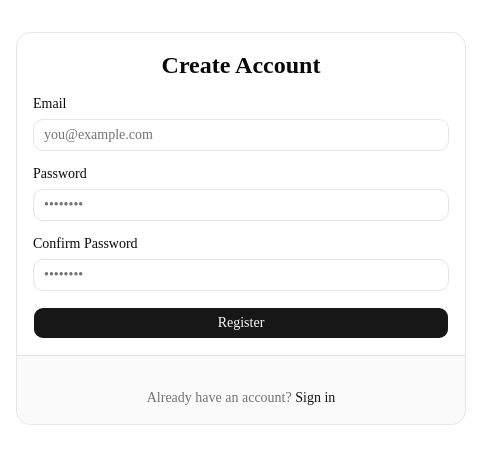
Test case: RegisterPage › shows error when email is empty
In the password field labelled "Password": (241, 204) [33,188,449,220], type "password123"
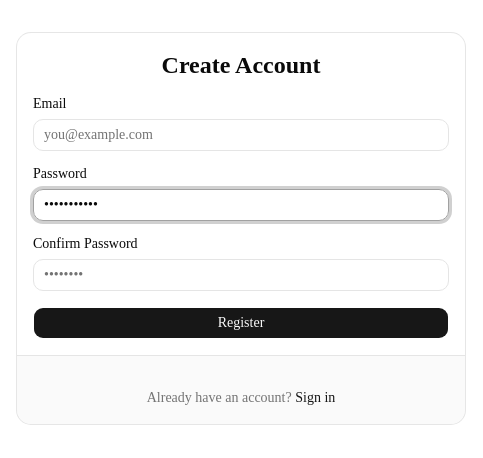
In the password field labelled "Confirm Password": (241, 274) [33,258,449,290], type "password123"
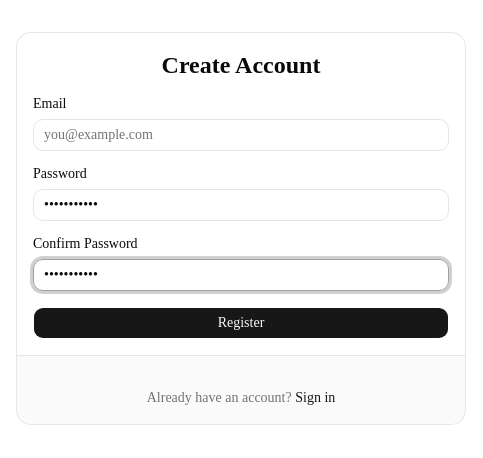
Click the button "Register": (241, 322) [33,306,449,338]
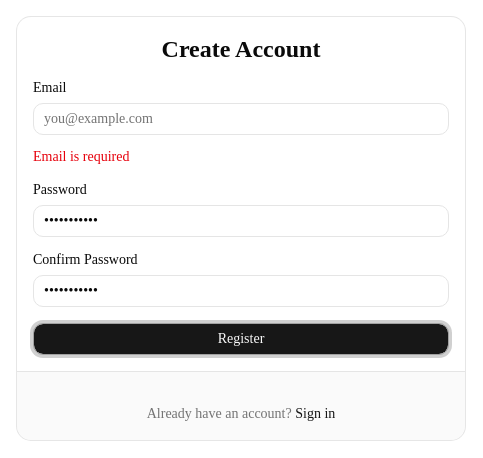
Check: the text "Email is required" is shown, box [33,148,129,164]
